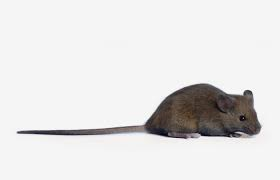mice: (18, 81, 264, 141)
